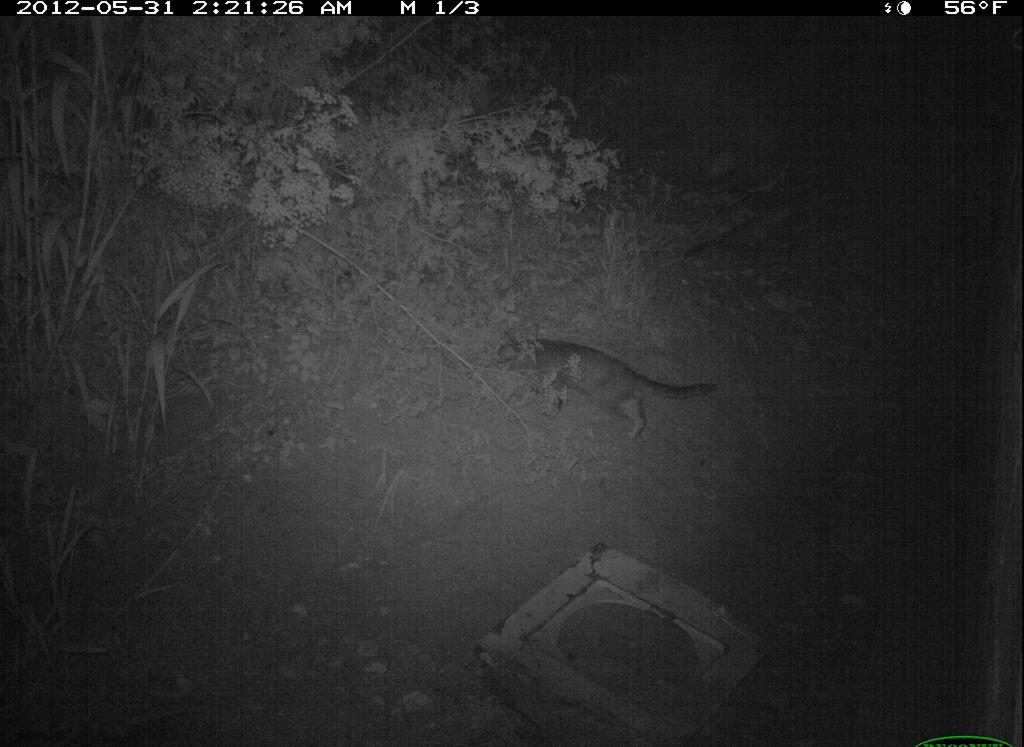cat: (479, 303, 743, 451)
